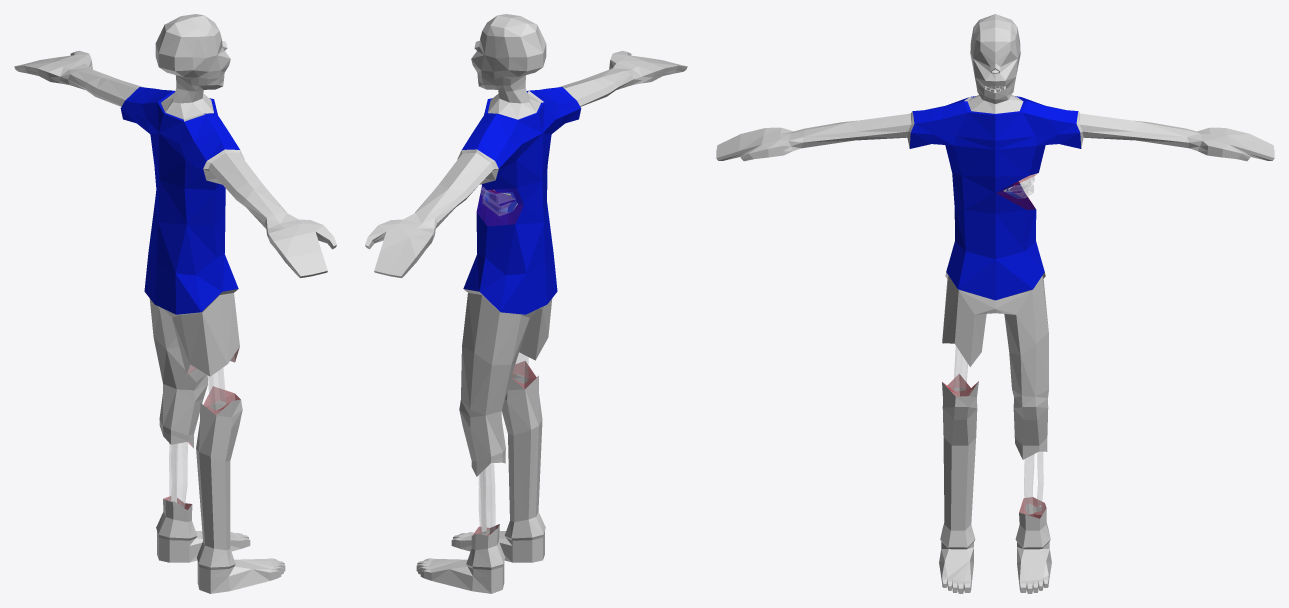
The model's file is Zombie 1.fbx.
3 views of the same model, side by side, from view 1: azimuth 30°, elevation 25°; view 2: azimuth 150°, elevation 25°; view 3: azimuth 270°, elevation 25° (orthographic). The views are drawn at different scales.
Visible parts, largest first — view 1: Zombie_Cylinder; view 2: Zombie_Cylinder; view 3: Zombie_Cylinder.
Boxes of the visible parts, box(x1,y1,x2,y2) form: Zombie_Cylinder: box(14, 14, 336, 593); Zombie_Cylinder: box(365, 14, 687, 593); Zombie_Cylinder: box(716, 14, 1274, 593).
Size of the model in its own units: 159 by 761 by 715.
